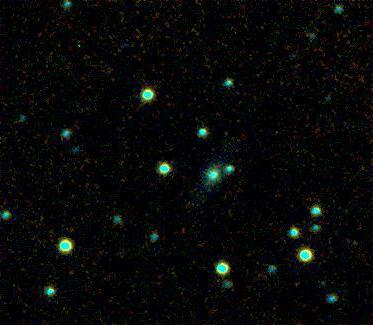star: (214, 117, 244, 147)
